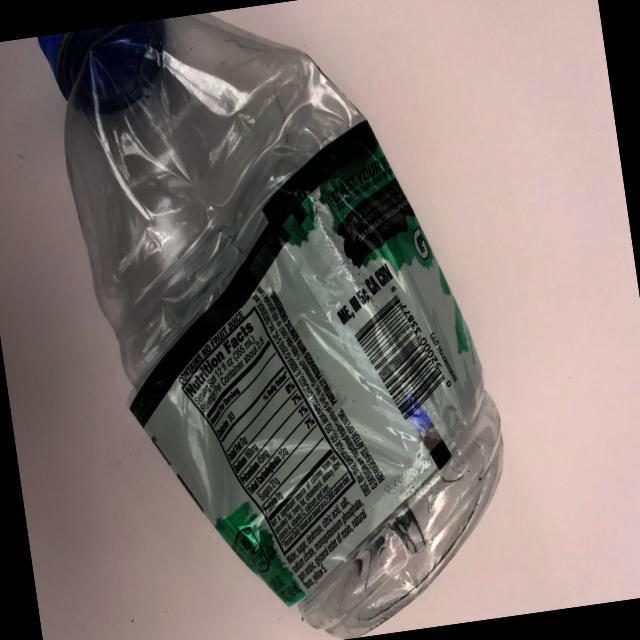plastic: (47, 0, 559, 640)
